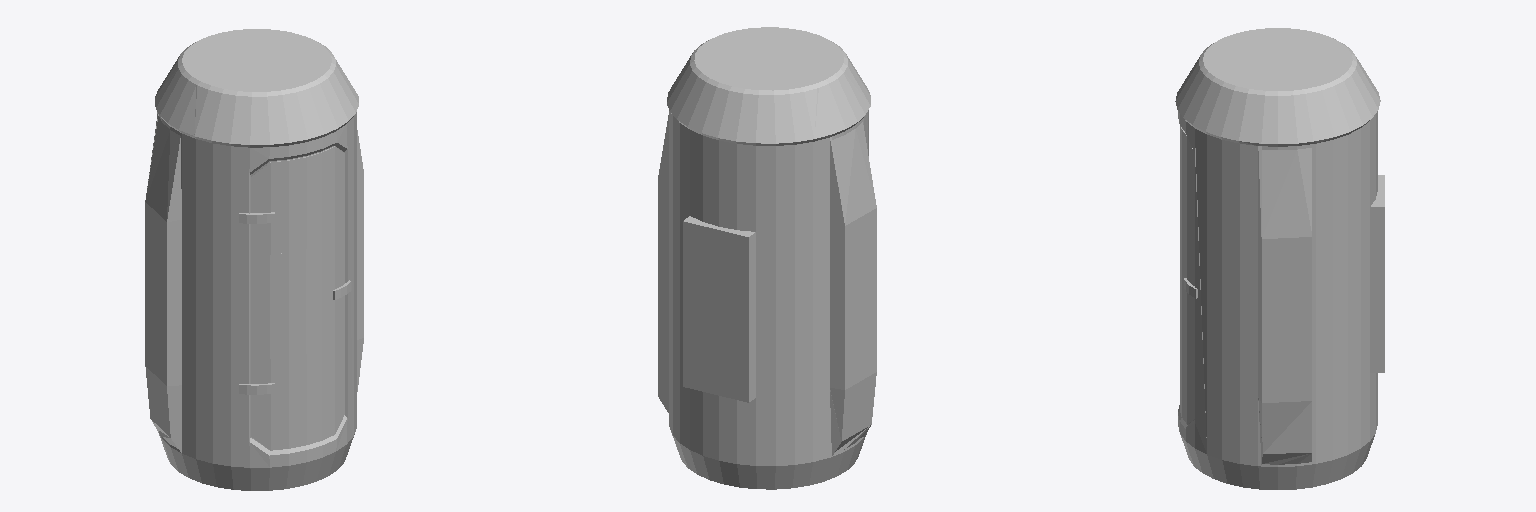
The picture shows the model from 3 angles: view 1: azimuth 30°, elevation 25°; view 2: azimuth 150°, elevation 25°; view 3: azimuth 270°, elevation 25°; orthographic projection.
Parts seen in each view (by area): view 1: Cylinder.006_Cylinder.011, Cylinder.005_Cylinder.010, Cylinder.004_Cylinder.009, Cylinder.011_Cylinder.022; view 2: Cylinder.006_Cylinder.011; view 3: Cylinder.006_Cylinder.011, Cylinder.005_Cylinder.010, Cylinder.004_Cylinder.009.
Boxes of the visible parts, x1,y1,x2,y2 form: Cylinder.006_Cylinder.011: [145, 29, 363, 490]; Cylinder.005_Cylinder.010: [251, 146, 344, 450]; Cylinder.004_Cylinder.009: [251, 232, 344, 359]; Cylinder.011_Cylinder.022: [239, 212, 275, 394]; Cylinder.006_Cylinder.011: [658, 27, 876, 489]; Cylinder.006_Cylinder.011: [1175, 28, 1384, 489]; Cylinder.005_Cylinder.010: [1180, 126, 1194, 424]; Cylinder.004_Cylinder.009: [1180, 217, 1194, 338].
Size of the model in its own units: 2.7 by 5.12 by 2.48.